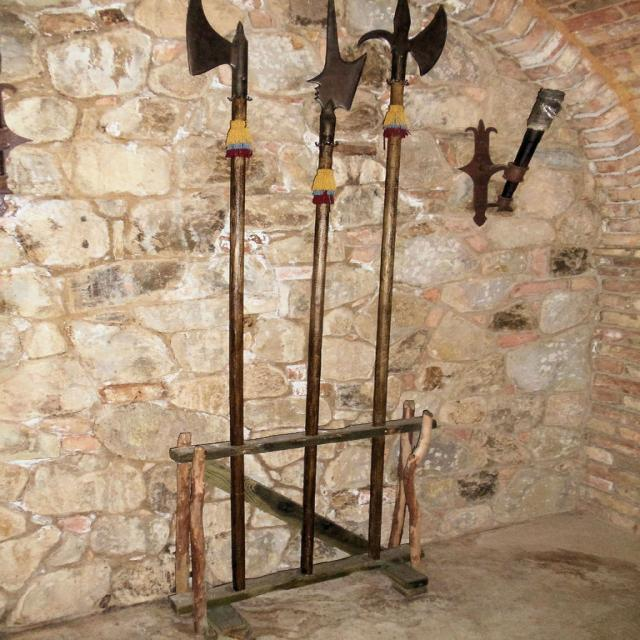Axe: (359, 0, 448, 426), (186, 0, 252, 446), (305, 0, 366, 434), (230, 455, 245, 589), (368, 435, 384, 558), (301, 445, 316, 573)
